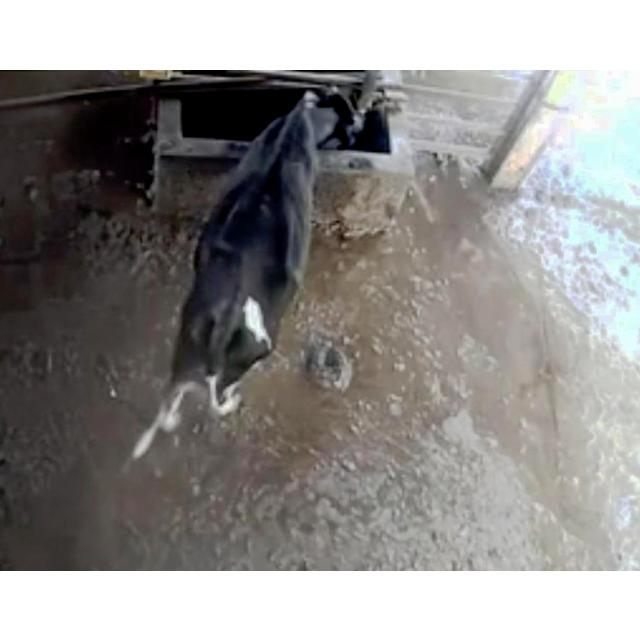drink: (226, 74, 374, 194)
